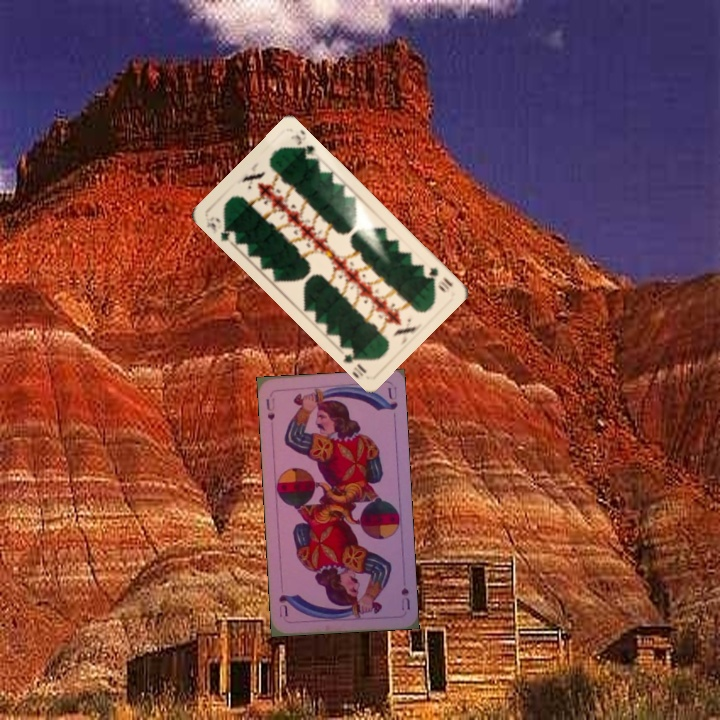G10: (202, 212, 239, 246), (424, 263, 455, 294)
SU: (397, 583, 413, 612), (262, 394, 277, 423)
